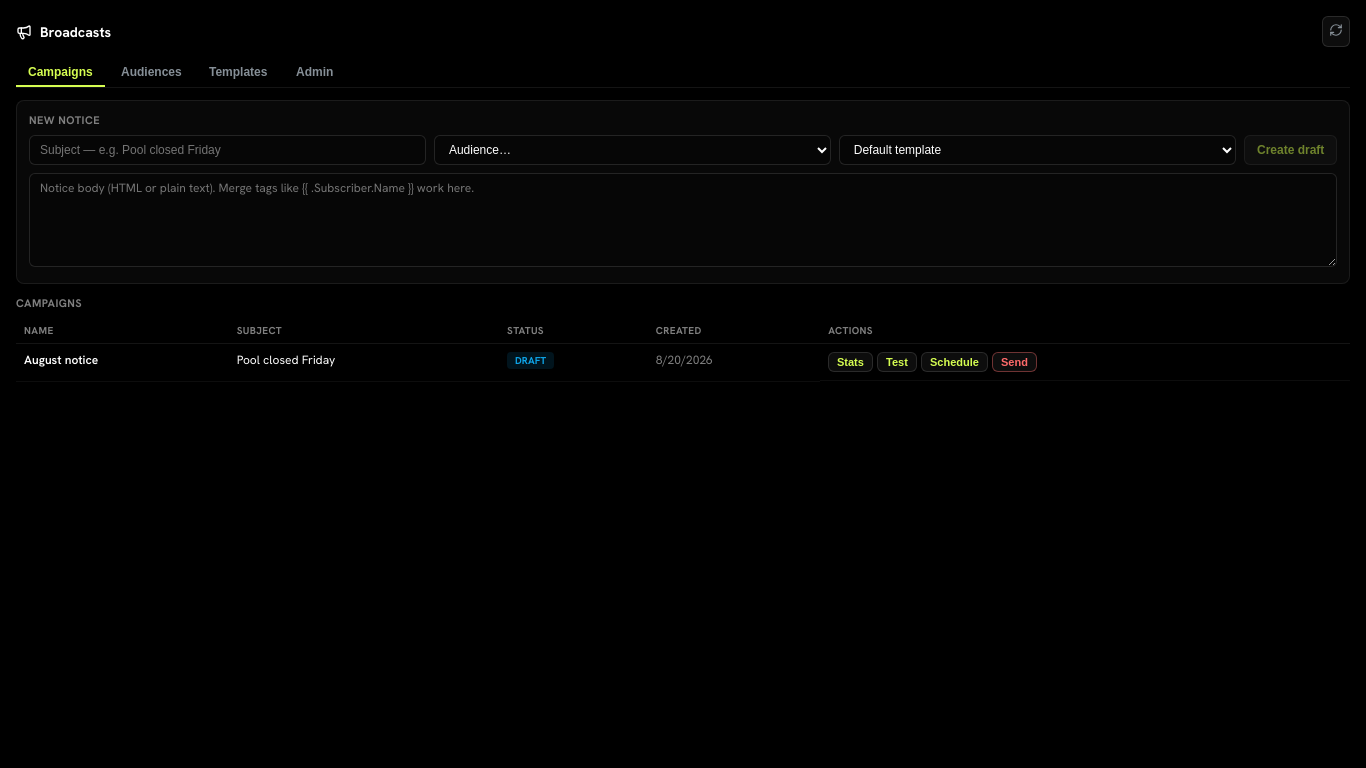
Test: Broadcasts widget — Audiences tab › lists audiences with counts; create audience POSTs /lists; Browse fetches subscribers
This screenshot has width=1366, height=768.
expect the tab "Campaigns" is shown: met, box top-left (16, 59), bottom-right (105, 87)
Click the tab "Audiences" at (151,73), box top-left (109, 59), bottom-right (193, 87)
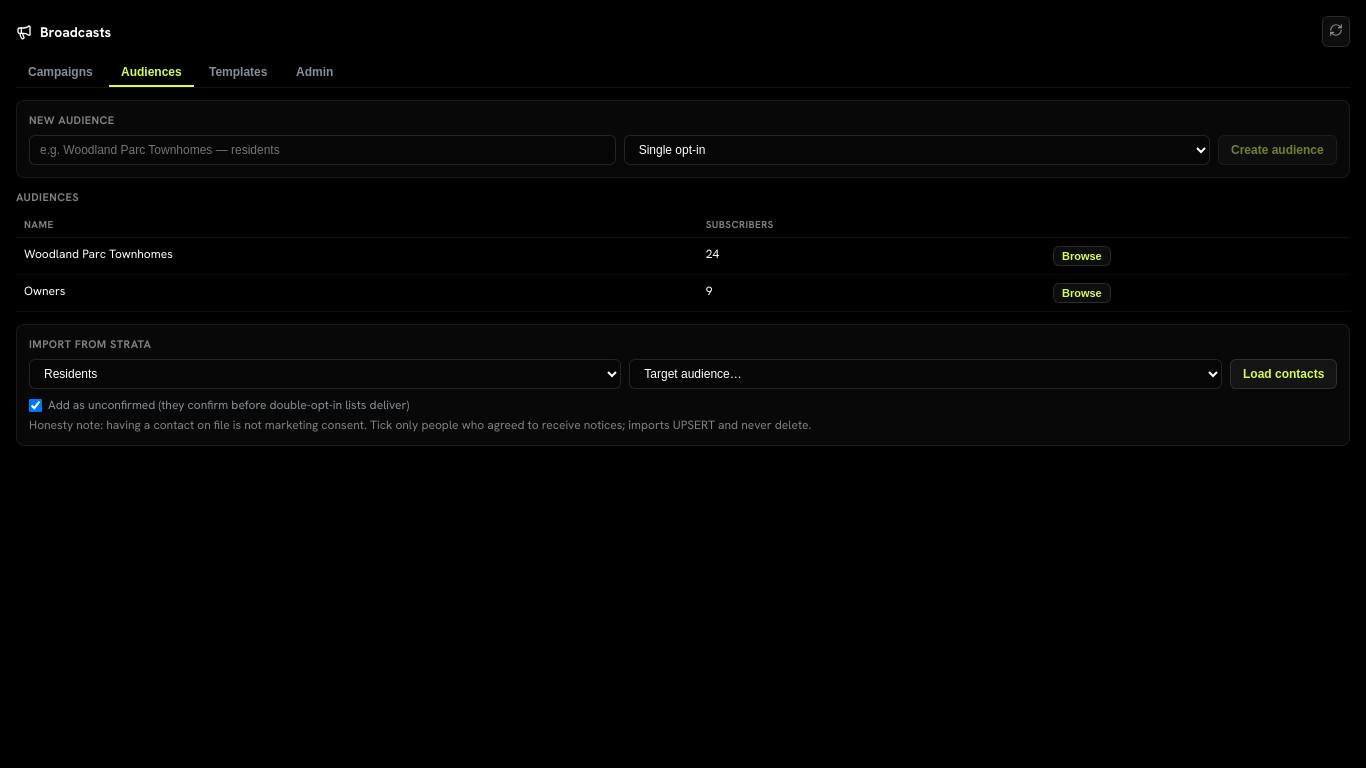
expect the button with aria-label "Browse Woodland Parc Townhomes" is shown: met, box top-left (1053, 246), bottom-right (1111, 266)
expect the text "24" is shown: met, box top-left (698, 238), bottom-right (1045, 274)
Type "Riverwood Club Apartments — residents" into the field named "Audience name" at (322,150), box top-left (29, 135), bottom-right (616, 165)
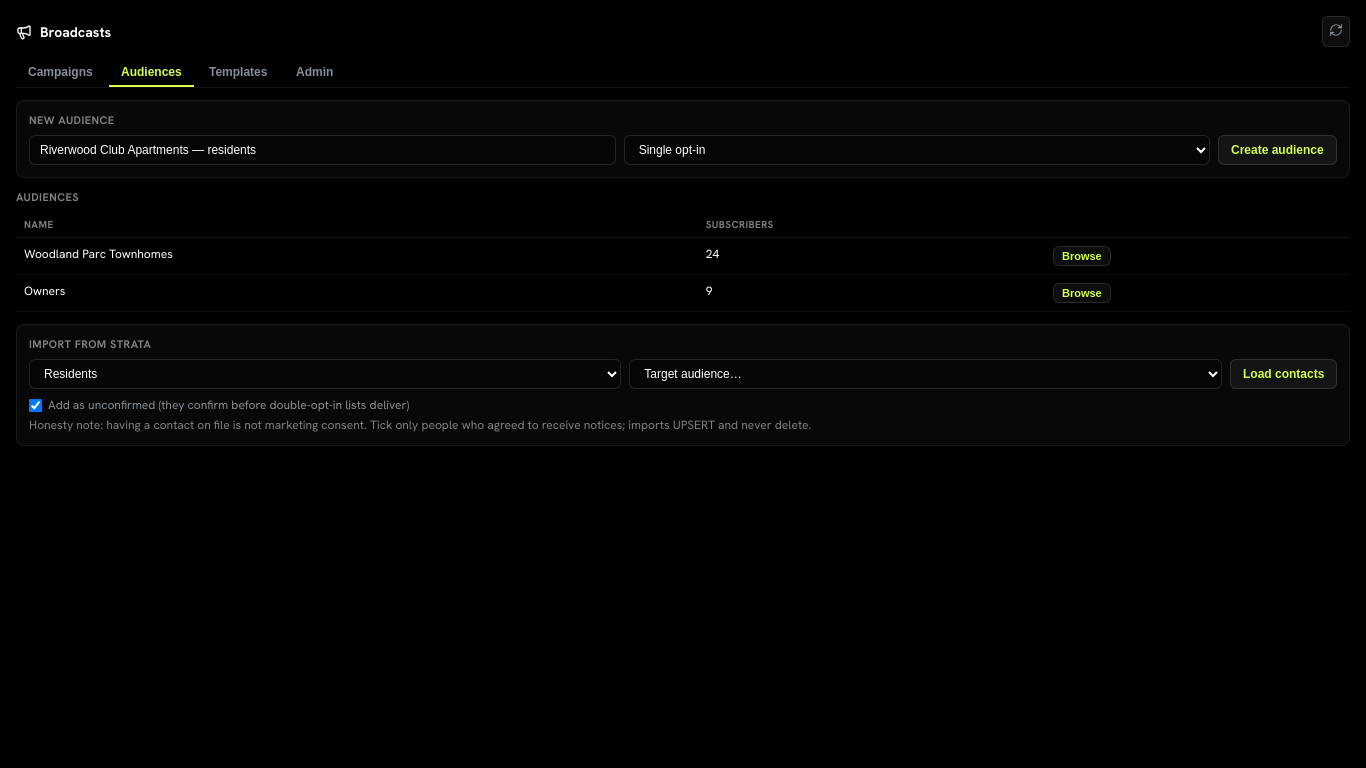
Click the button "Create audience" at (1278,150), box top-left (1218, 135), bottom-right (1337, 165)
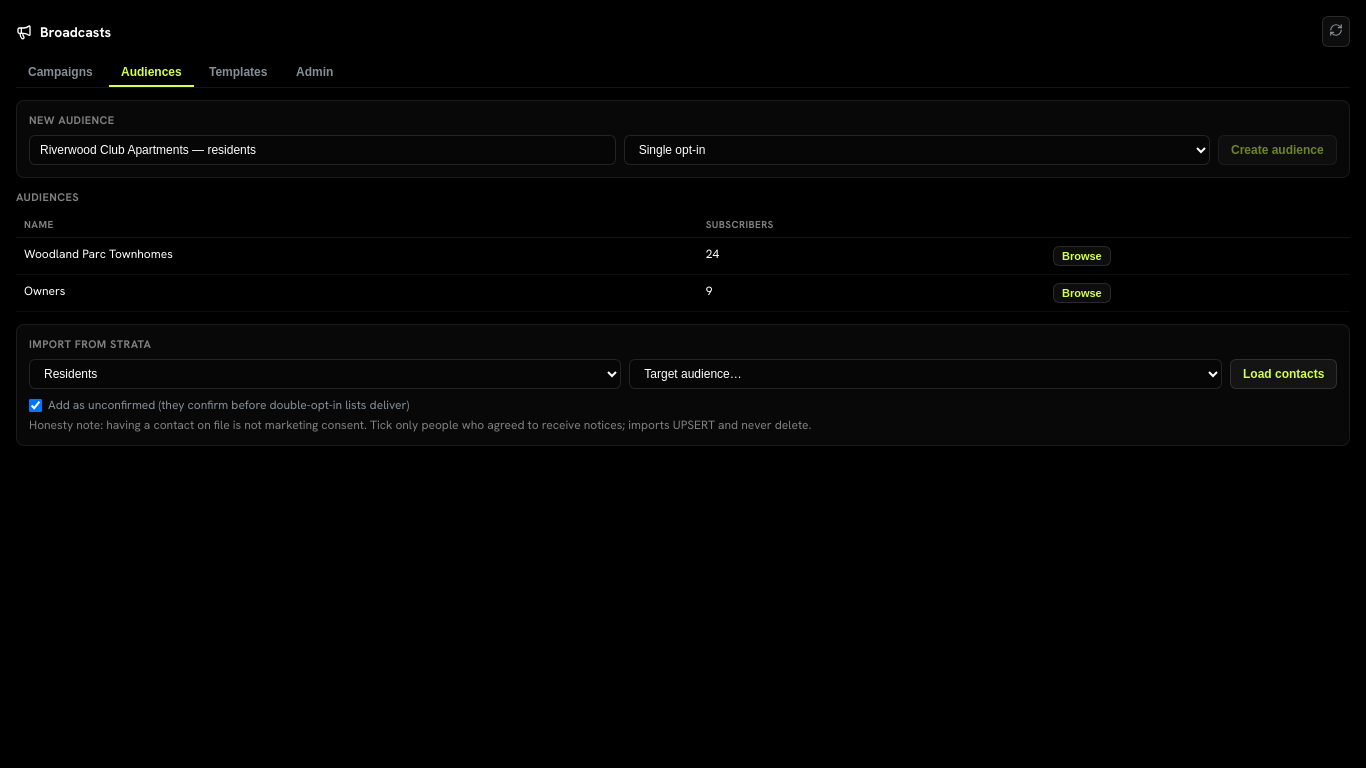
Click the button with aria-label "Browse Owners" at (1082,293), box top-left (1053, 283), bottom-right (1111, 303)
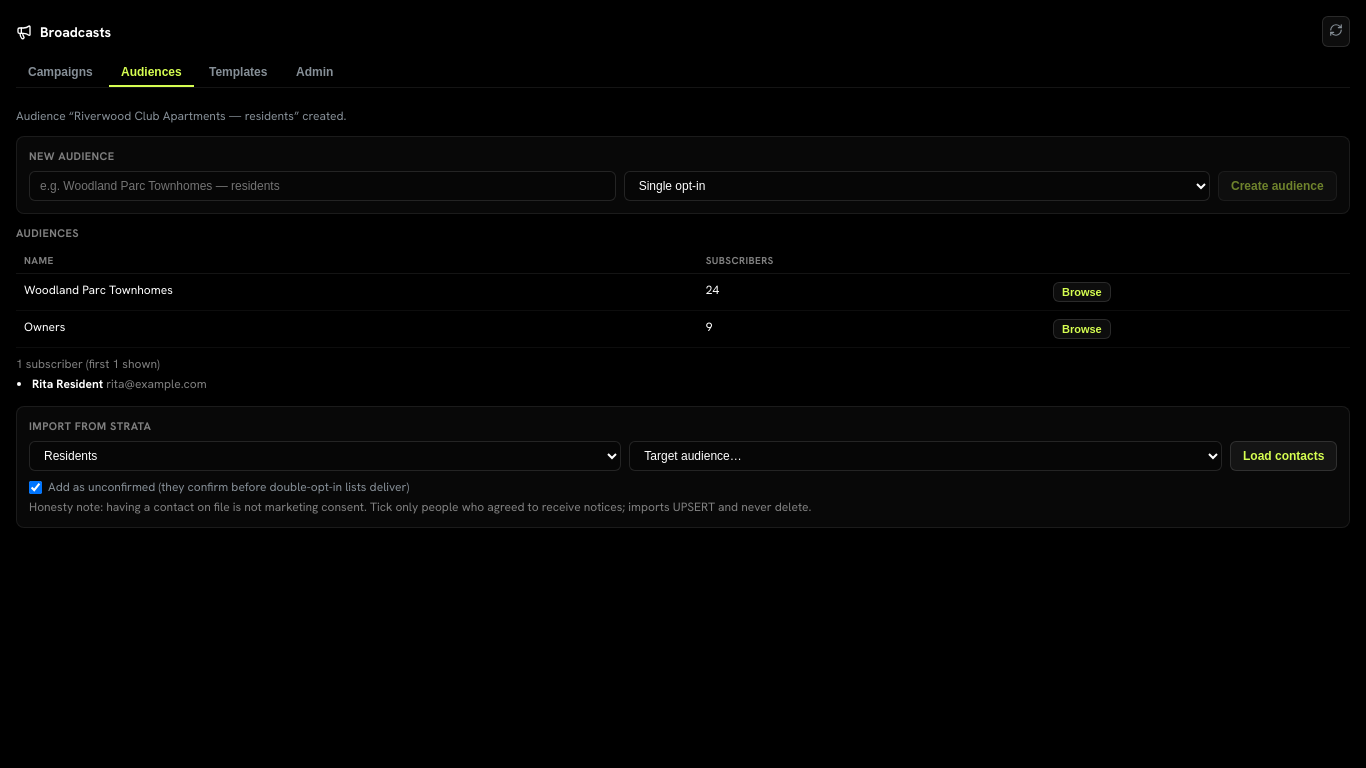
expect the text "1 subscriber (first 1 shown)" is shown: met, box top-left (16, 356), bottom-right (160, 372)
expect the text "rita@example.com" is shown: met, box top-left (106, 376), bottom-right (207, 392)
